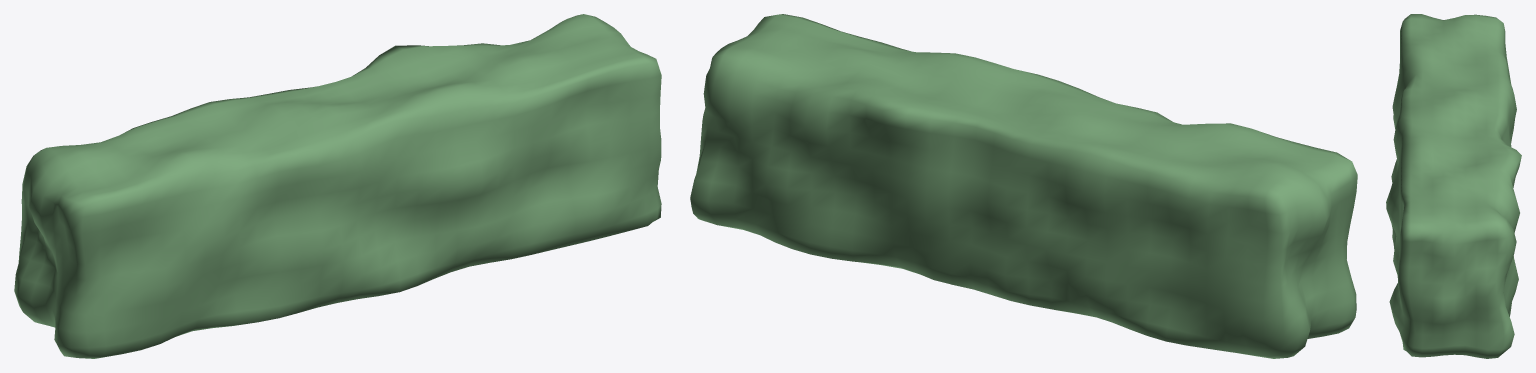
File: cali1.fbx
3 renders of one model, left to right at view 1: azimuth 30°, elevation 25°; view 2: azimuth 150°, elevation 25°; view 3: azimuth 270°, elevation 25°, orthographic. The views are drawn at different scales.
Parts seen in each view (by area): view 1: pCube1; view 2: pCube1; view 3: pCube1.
Boxes of the visible parts, x1=… form: pCube1: x1=14, y1=14, x2=661, y2=358; pCube1: x1=690, y1=14, x2=1357, y2=358; pCube1: x1=1386, y1=14, x2=1521, y2=358.
Size of the model in its own units: 6.23 by 1.74 by 1.56.
